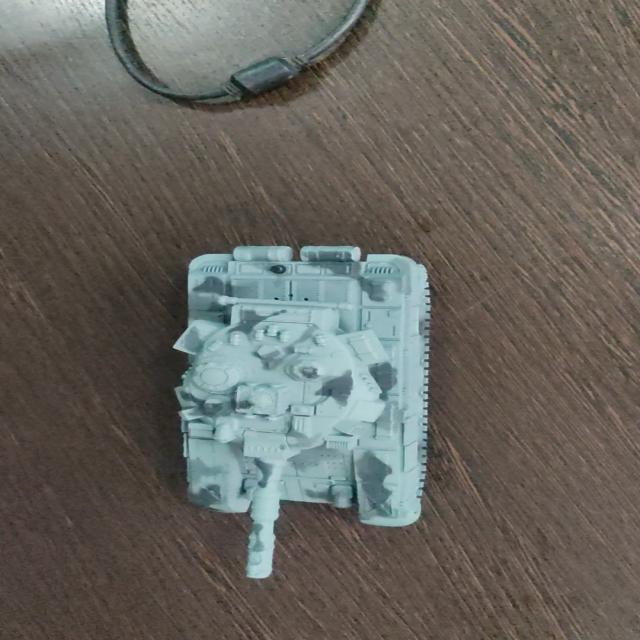tank: (172, 245, 434, 580)
